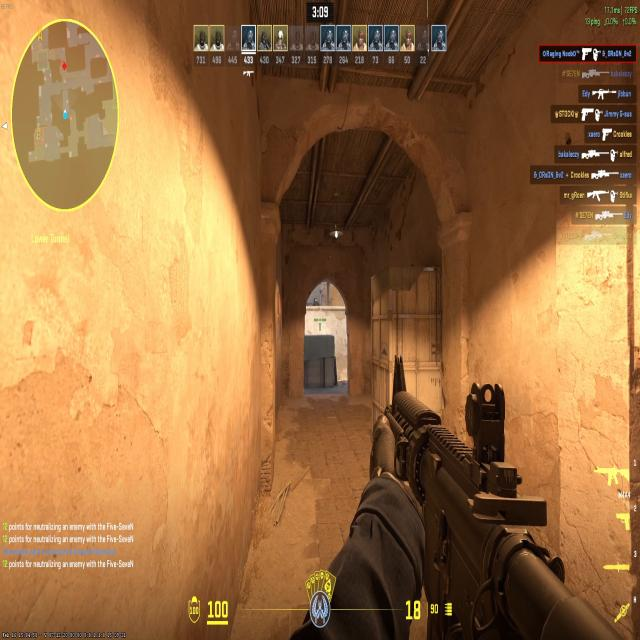player: (313, 296, 319, 310)
